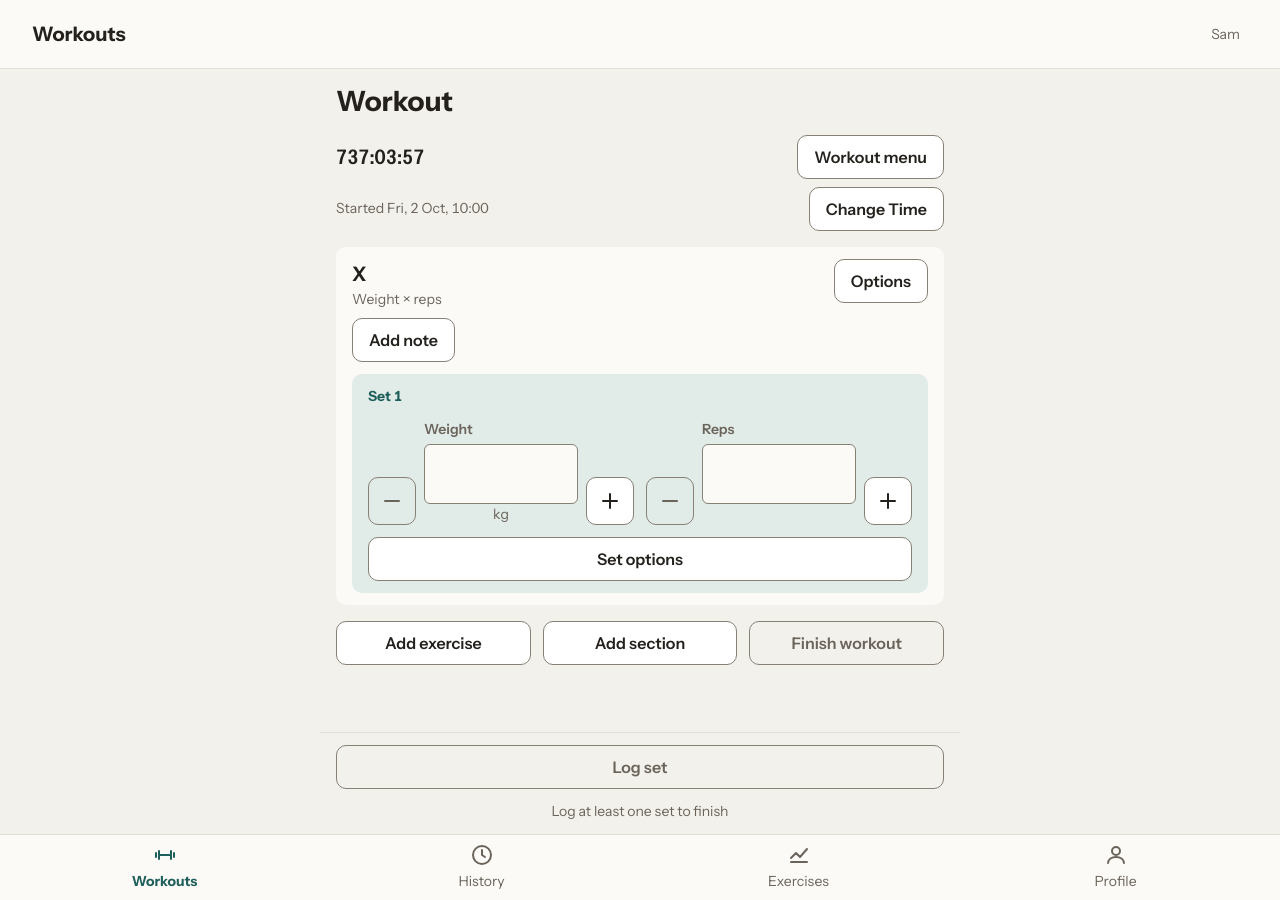
Test: AC21 — entry row fields per modality › weight_reps also offers Set type (default Working); no RPE, no More (17.1 AC1)
This screenshot has width=1280, height=900.
Check: the heading "Workout" is shown, box x1=336 y1=84 x2=453 y2=118
Click the button "Set options" at (640, 559), box x1=368 y1=537 x2=912 y2=581
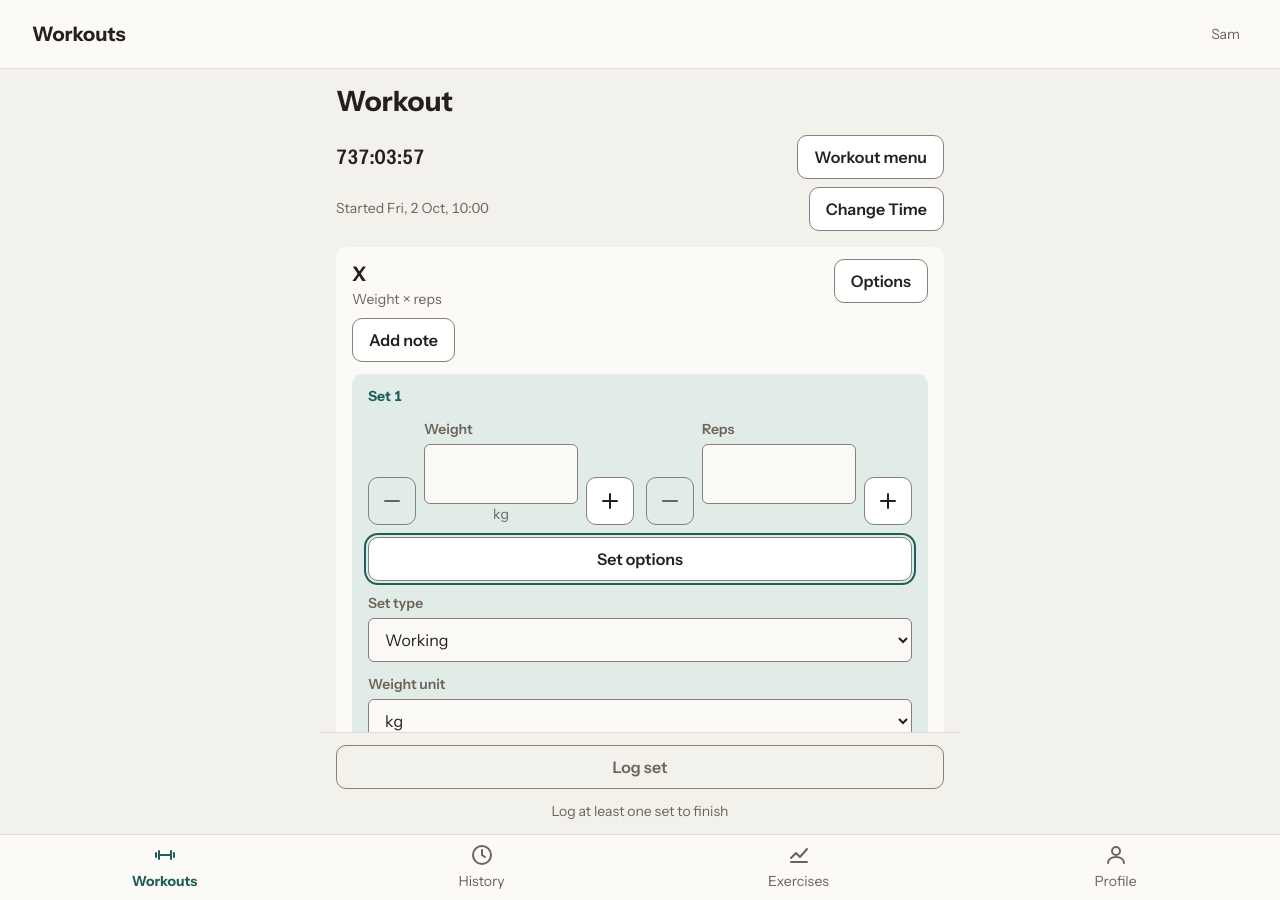
Check: the dropdown labelled "Set type" shows "Working", box x1=368 y1=618 x2=912 y2=662
